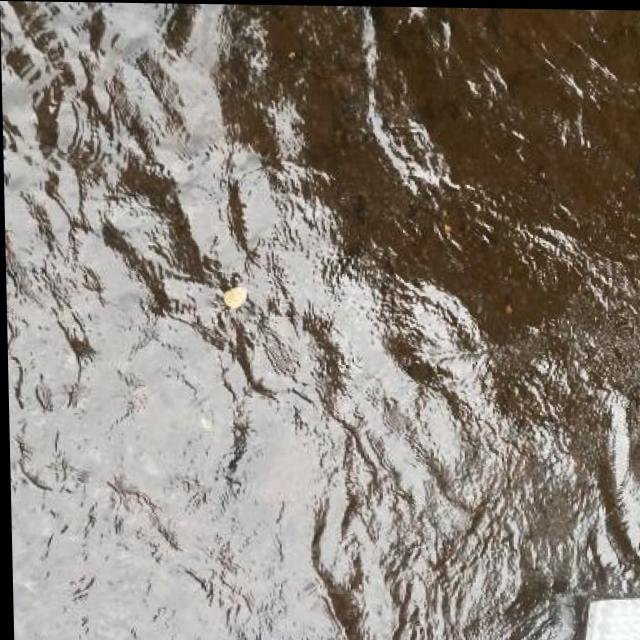Plastic: (566, 585, 640, 640)
